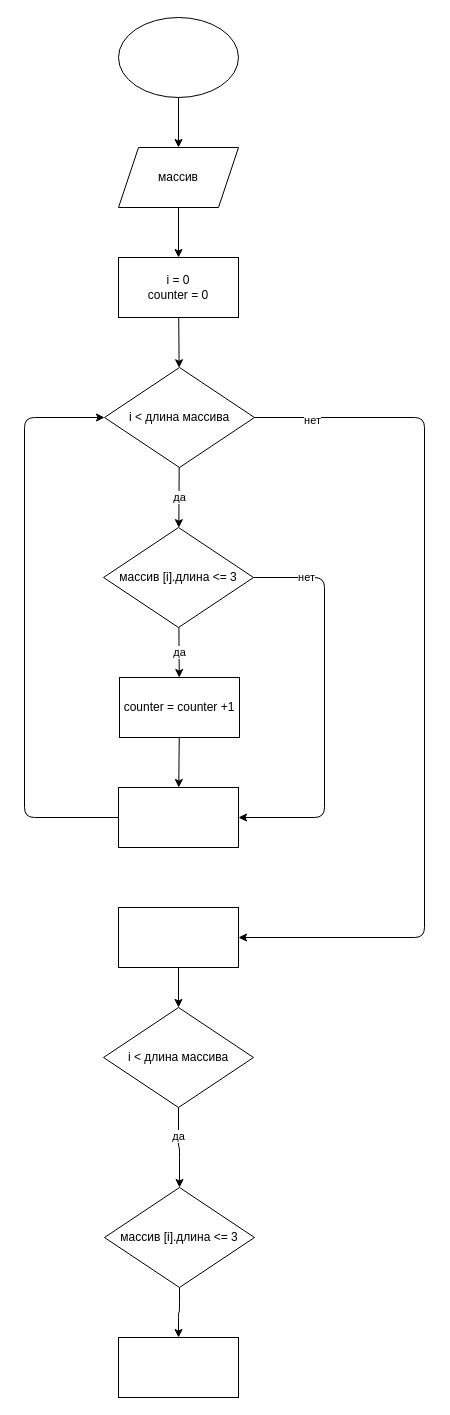
Image size: 450x1415. Some labels were removed from this diagram. Here are the shapes that lost their labels. From the top down, the centre of each, then its label:
At point (178, 57): "начало".
At point (178, 817): "i = i +1".
At point (178, 937): "созданный массив [counter] i=0 j=0".
